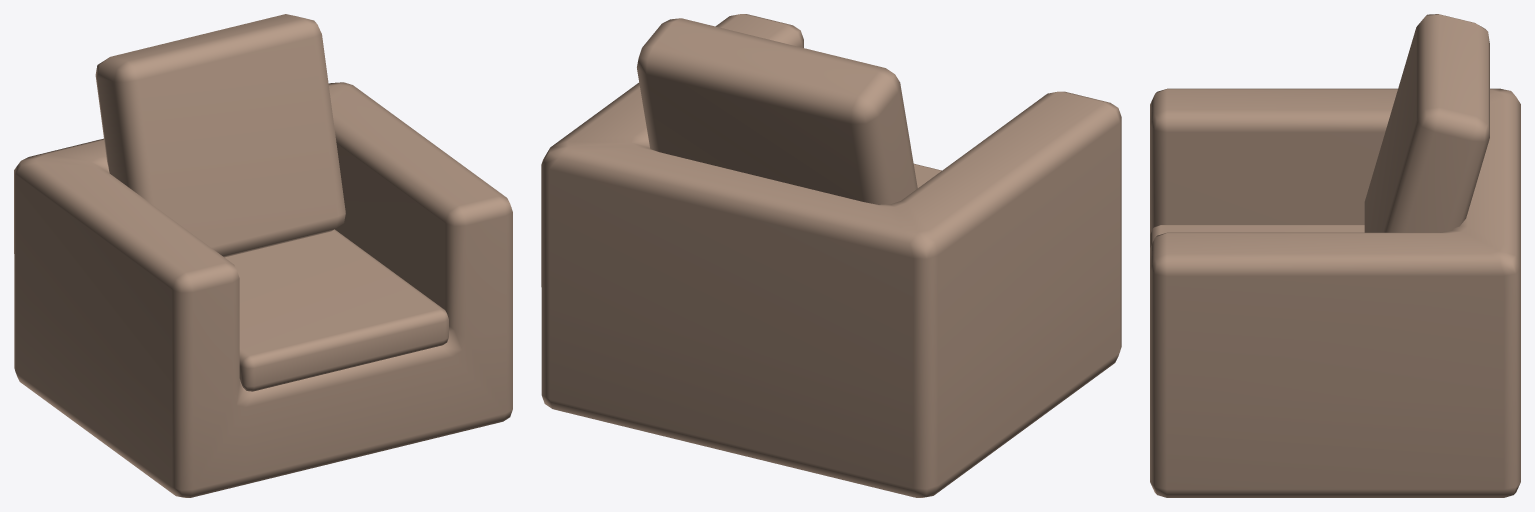
Rendered from Chair_Armchair_1.glb.
The picture shows the model from 3 angles, left to right: view 1: azimuth 30°, elevation 25°; view 2: azimuth 150°, elevation 25°; view 3: azimuth 270°, elevation 25°; orthographic projection. The views are drawn at different scales.
Parts seen in each view (by area): view 1: Armchair_1; view 2: Armchair_1; view 3: Armchair_1.
Boxes of the visible parts, left/top/right/bottom form: Armchair_1: left=14, top=14, right=512, bottom=497; Armchair_1: left=541, top=14, right=1121, bottom=497; Armchair_1: left=1150, top=14, right=1520, bottom=497.
Size of the model in its own units: 1.49 by 1.38 by 1.31.
1 material, 1 textured.
